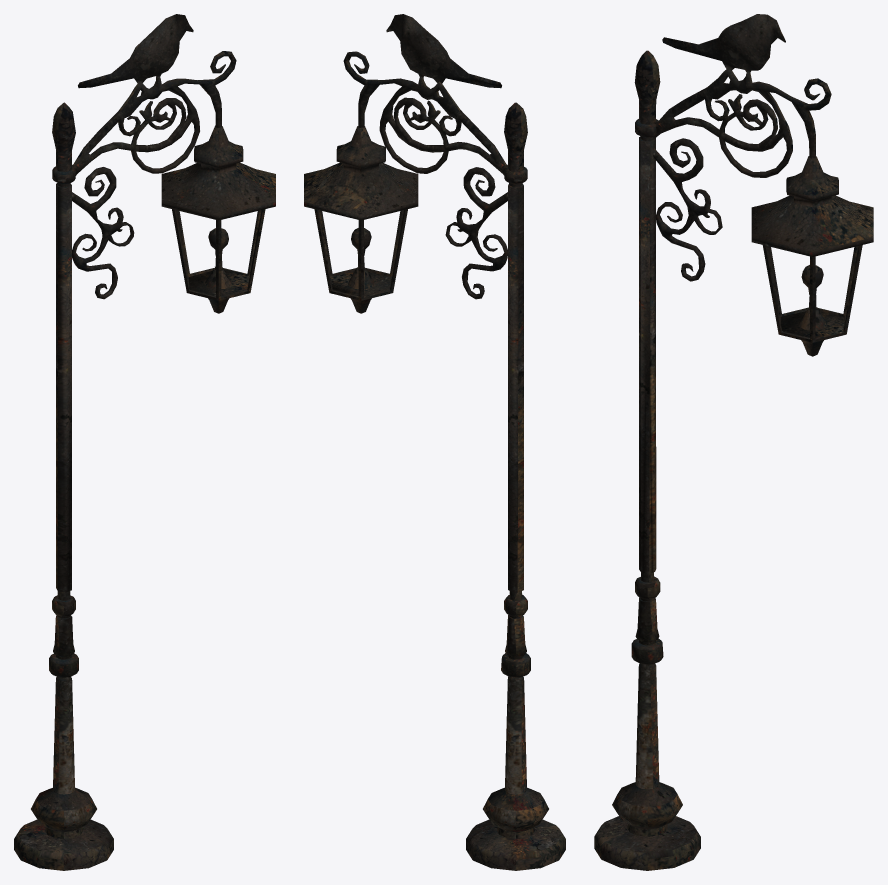
Rendered from farolota.fbx.
The picture shows the model from 3 angles, left to right: view 1: azimuth 30°, elevation 25°; view 2: azimuth 150°, elevation 25°; view 3: azimuth 330°, elevation 25°; orthographic projection. The views are drawn at different scales.
Parts seen in each view (by area): view 1: rv_lamp_post_4.003; view 2: rv_lamp_post_4.003; view 3: rv_lamp_post_4.003.
Part boxes in pixels (<box>): rv_lamp_post_4.003: <box>14,14,275,870</box>; rv_lamp_post_4.003: <box>304,14,565,870</box>; rv_lamp_post_4.003: <box>594,14,873,870</box>.
Size of the model in its own units: 808 by 2447 by 314.
